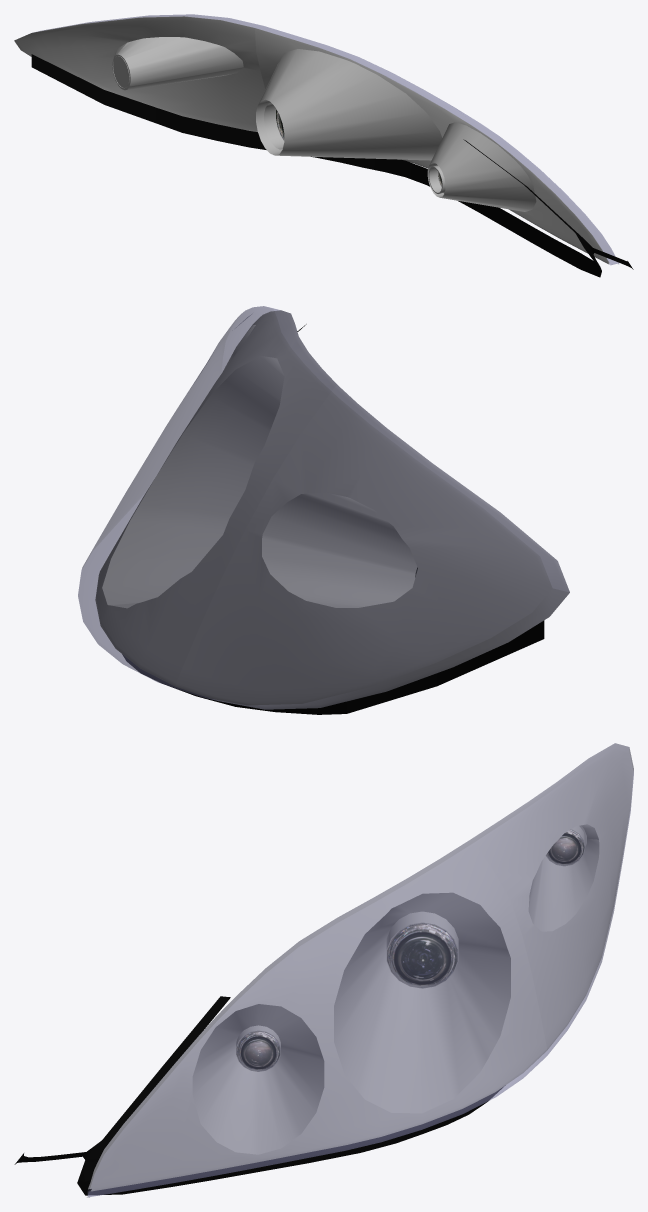
3 renders of one model, top to bottom at view 1: azimuth 30°, elevation 25°; view 2: azimuth 150°, elevation 25°; view 3: azimuth 270°, elevation 25°, orthographic. The views are drawn at different scales.
Visible parts, largest first — view 1: Y174_061B_L_Y174_061B_L_4_DaS, Y174_061B_L_Y174_061B_L_6_D, Y174_061B_L_Y174_061B_L_7_DTaSI; view 2: Y174_061B_L_Y174_061B_L_7_DTaSI, Y174_061B_L_Y174_061B_L_4_DaS, Y174_061B_L_Y174_061B_L_6_D; view 3: Y174_061B_L_Y174_061B_L_7_DTaSI, Y174_061B_L_Y174_061B_L_4_DaS, Y174_061B_L_Y174_061B_L_6_D, Y174_061B_L_Y174_061B_L_2_N, Y174_061B_L_Y174_061B_L_3_N, Y174_061B_L_1_N_Y174_061B_L.
Boxes of the visible parts, x1=… form: Y174_061B_L_Y174_061B_L_4_DaS: x1=14, y1=16, x2=609, y2=264; Y174_061B_L_Y174_061B_L_6_D: x1=31, y1=54, x2=633, y2=277; Y174_061B_L_Y174_061B_L_7_DTaSI: x1=35, y1=14, x2=618, y2=265; Y174_061B_L_Y174_061B_L_7_DTaSI: x1=78, y1=306, x2=569, y2=709; Y174_061B_L_Y174_061B_L_4_DaS: x1=95, y1=310, x2=569, y2=709; Y174_061B_L_Y174_061B_L_6_D: x1=122, y1=324, x2=544, y2=714; Y174_061B_L_Y174_061B_L_7_DTaSI: x1=87, y1=743, x2=633, y2=1197; Y174_061B_L_Y174_061B_L_4_DaS: x1=88, y1=743, x2=633, y2=1191; Y174_061B_L_Y174_061B_L_6_D: x1=14, y1=996, x2=502, y2=1195; Y174_061B_L_Y174_061B_L_2_N: x1=387, y1=923, x2=457, y2=987; Y174_061B_L_Y174_061B_L_3_N: x1=236, y1=1031, x2=280, y2=1071; Y174_061B_L_1_N_Y174_061B_L: x1=546, y1=830, x2=584, y2=865.
Bounding box in the file's own units: 51.28 × 24.23 × 55.23.
